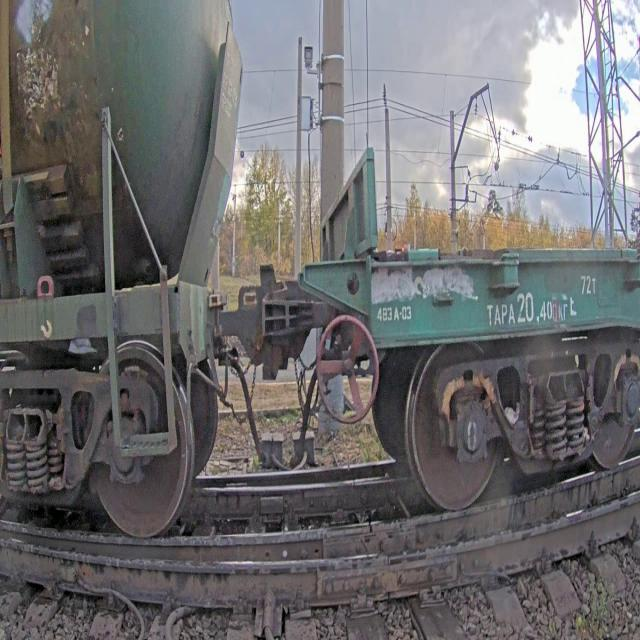flatcar: (299, 139, 640, 517)
tank: (0, 0, 254, 563)
